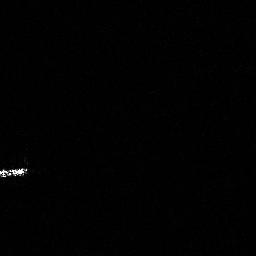ship: (1, 164, 31, 181)
